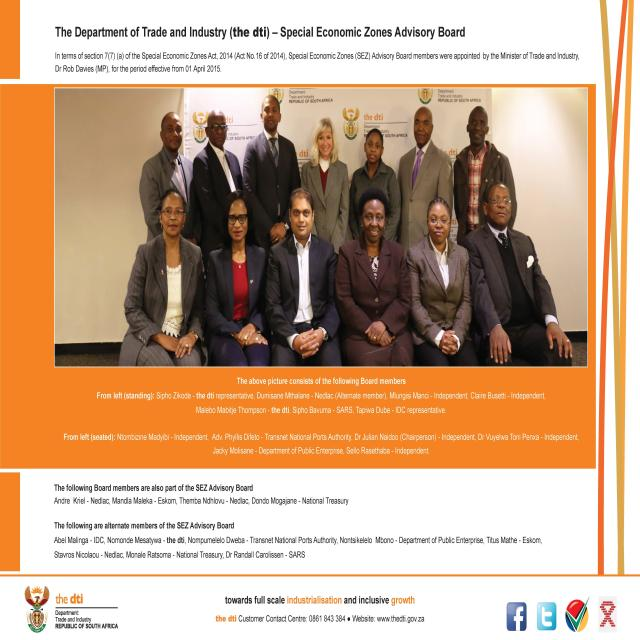body: (464, 182, 573, 368), (118, 186, 210, 367), (262, 186, 343, 366), (334, 186, 414, 366), (405, 196, 480, 367), (202, 188, 271, 366), (452, 105, 518, 248), (242, 94, 302, 251), (397, 106, 454, 266), (192, 107, 244, 270), (138, 111, 194, 244), (300, 117, 350, 257), (348, 127, 403, 245)
